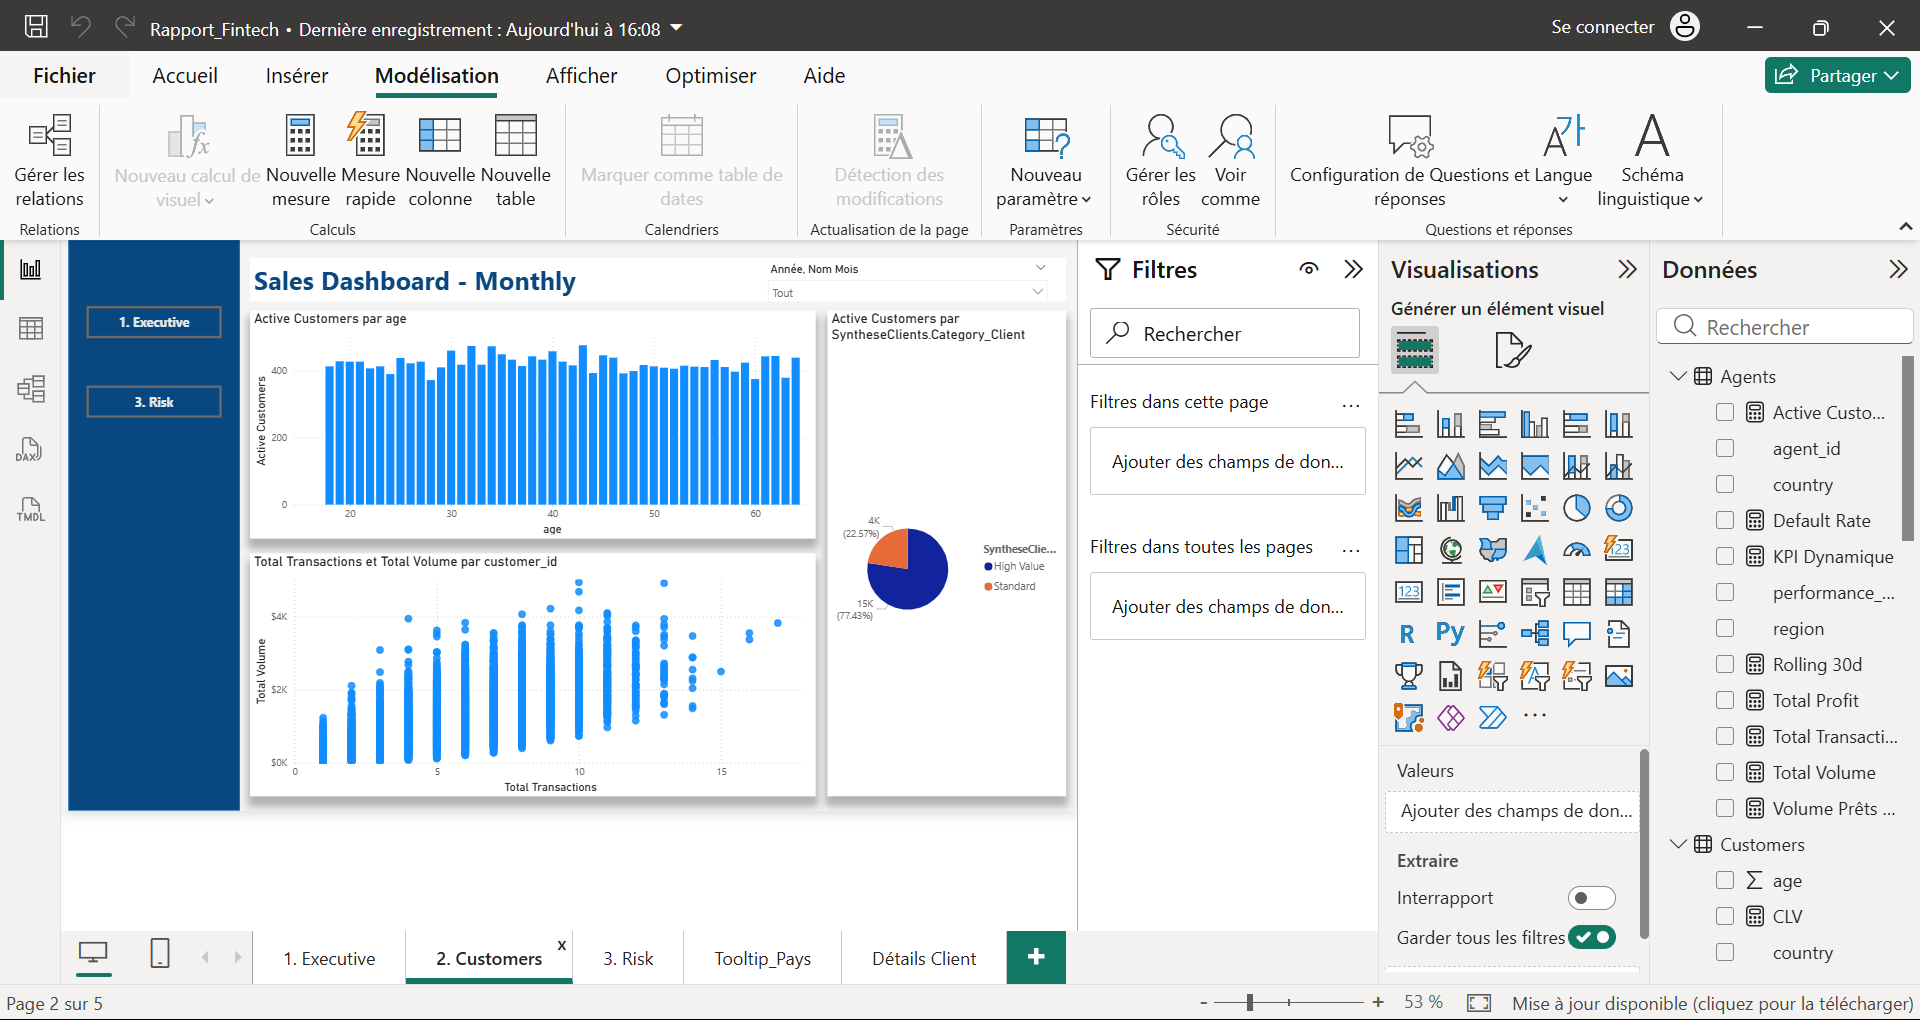

This screenshot's page, from the dashboard's own definition file:
{"tool":"powerbi","page":{"name":"2. Customers","canvas":[1280,720],"ordinal":1},"visuals":[{"type":"shape","box":[9.4,0,215.7,719],"z":0},{"type":"actionButton","box":[31.3,82.8,170.4,40.6],"z":1000},{"type":"actionButton","box":[31.3,182.9,170.4,40.6],"z":2000},{"type":"textbox","box":[238.1,22.7,1028,54.8],"z":3000},{"type":"slicer","fields":{"Values":["DimDate.Année","DimDate.Nom Mois"]},"box":[880.6,22.7,372.3,54.8],"z":4000},{"type":"pieChart","fields":{"Category":["Customers.SyntheseClients.Category_Client"],"Y":["Agents.Active Customers"]},"box":[965.7,88.8,300.5,612.3],"z":5000},{"type":"columnChart","fields":{"Category":["Customers.age"],"Y":["Agents.Active Customers"]},"box":[238.1,88.8,712.4,287.2],"z":6000},{"type":"scatterChart","fields":{"Category":["Customers.customer_id"],"X":["Agents.Total Transactions"],"Y":["Agents.Total Volume"]},"box":[238.1,395,712.4,306.1],"z":7000}]}

Visuals, with their boxes on the page's 1280x720 design canvas (x1, y1, x2, y2). These are canvas units, not pixel positions in the 1920x1020 screenshot, which may show the page scaled, cropped or inside an application window:
shape: <box>9,0,225,719</box>
actionButton: <box>31,83,202,123</box>
actionButton: <box>31,183,202,224</box>
textbox: <box>238,23,1266,78</box>
slicer - DimDate.Année x DimDate.Nom Mois: <box>881,23,1253,78</box>
pieChart - Customers.SyntheseClients.Category_Client x Agents.Active Customers: <box>966,89,1266,701</box>
columnChart - Customers.age x Agents.Active Customers: <box>238,89,950,376</box>
scatterChart - Customers.customer_id x Agents.Total Transactions: <box>238,395,950,701</box>
